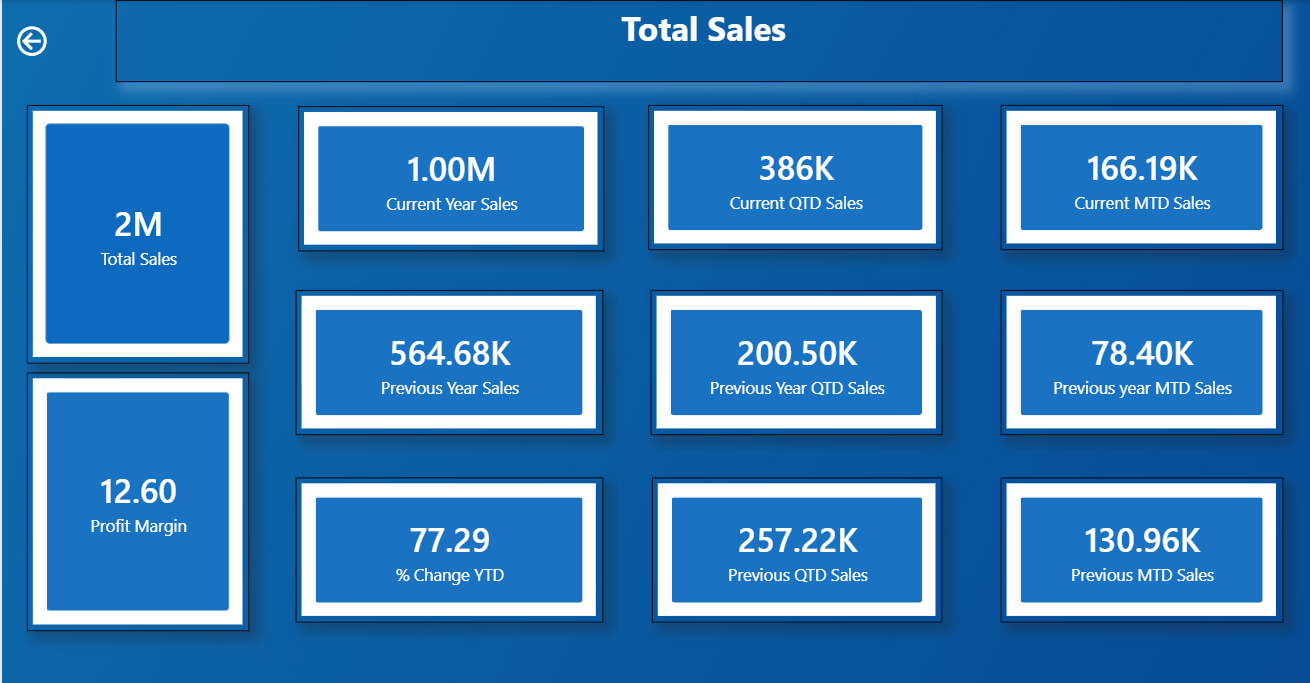

What the dashboard file says about the page in this screenshot:
{"tool":"powerbi","page":{"name":"Total Sales","canvas":[1280,720],"ordinal":2},"visuals":[{"type":"textbox","box":[109.8,0,1126.6,79.6],"z":0},{"type":"actionButton","box":[9.6,20.6,49.4,38.4],"z":1000},{"type":"cardVisual","fields":{"Data":["My Measures.Total Sales"]},"box":[24,101,214.6,250],"z":2000},{"type":"cardVisual","fields":{"Data":["My Measures.Current Year Sales"]},"box":[285.3,102.3,295.4,140.1],"z":2001},{"type":"cardVisual","fields":{"Data":["My Measures.Current QTD Sales"]},"box":[623.7,101,284.1,140.1],"z":2002},{"type":"cardVisual","fields":{"Data":["My Measures.Current MTD Sales"]},"box":[963.3,101,272.7,140.1],"z":2003},{"type":"cardVisual","fields":{"Data":["My Measures.Previous Year Sales"]},"box":[284.1,280.3,296.7,140.1],"z":2004},{"type":"cardVisual","fields":{"Data":["My Measures.Previous Year QTD Sales"]},"box":[626.2,280.3,281.6,140.1],"z":2005},{"type":"cardVisual","fields":{"Data":["My Measures.Previous year MTD Sales"]},"box":[963.3,280.3,272.7,140.1],"z":2006},{"type":"cardVisual","fields":{"Data":["My Measures.% Change YTD"]},"box":[284.1,460.8,296.7,140.1],"z":2007},{"type":"cardVisual","fields":{"Data":["My Measures.Previous QTD Sales"]},"box":[627.5,460.8,280.3,140.1],"z":2008},{"type":"cardVisual","fields":{"Data":["My Measures.Previous MTD Sales"]},"box":[963.3,460.8,272.7,140.1],"z":2009},{"type":"cardVisual","fields":{"Data":["My Measures.Profit Margin"]},"box":[24,359.8,214.6,250],"z":2011}]}

Visuals, with their boxes on the page's 1280x720 design canvas (x1, y1, x2, y2). These are canvas units, not pixel positions in the 1310x683 screenshot, which may show the page scaled, cropped or inside an application window:
textbox: [left=110, top=0, right=1236, bottom=80]
actionButton: [left=10, top=21, right=59, bottom=59]
cardVisual - My Measures.Total Sales: [left=24, top=101, right=239, bottom=351]
cardVisual - My Measures.Current Year Sales: [left=285, top=102, right=581, bottom=242]
cardVisual - My Measures.Current QTD Sales: [left=624, top=101, right=908, bottom=241]
cardVisual - My Measures.Current MTD Sales: [left=963, top=101, right=1236, bottom=241]
cardVisual - My Measures.Previous Year Sales: [left=284, top=280, right=581, bottom=420]
cardVisual - My Measures.Previous Year QTD Sales: [left=626, top=280, right=908, bottom=420]
cardVisual - My Measures.Previous year MTD Sales: [left=963, top=280, right=1236, bottom=420]
cardVisual - My Measures.% Change YTD: [left=284, top=461, right=581, bottom=601]
cardVisual - My Measures.Previous QTD Sales: [left=628, top=461, right=908, bottom=601]
cardVisual - My Measures.Previous MTD Sales: [left=963, top=461, right=1236, bottom=601]
cardVisual - My Measures.Profit Margin: [left=24, top=360, right=239, bottom=610]
